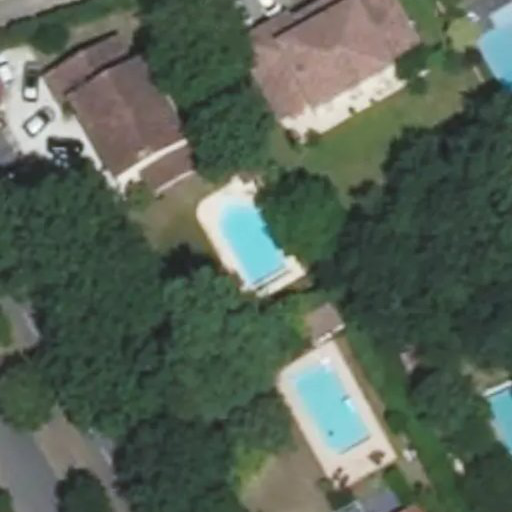pool: (299, 363, 373, 453), (219, 199, 291, 286), (487, 388, 512, 454)
